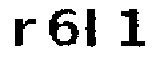1: (112, 7, 148, 52)
6: (45, 6, 78, 51)
l: (83, 8, 102, 52)
r: (11, 17, 37, 51)
